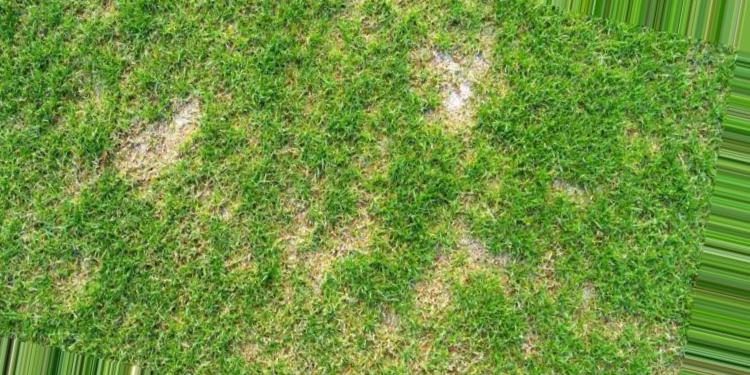patch: (450, 67, 488, 129), (142, 123, 201, 156)
